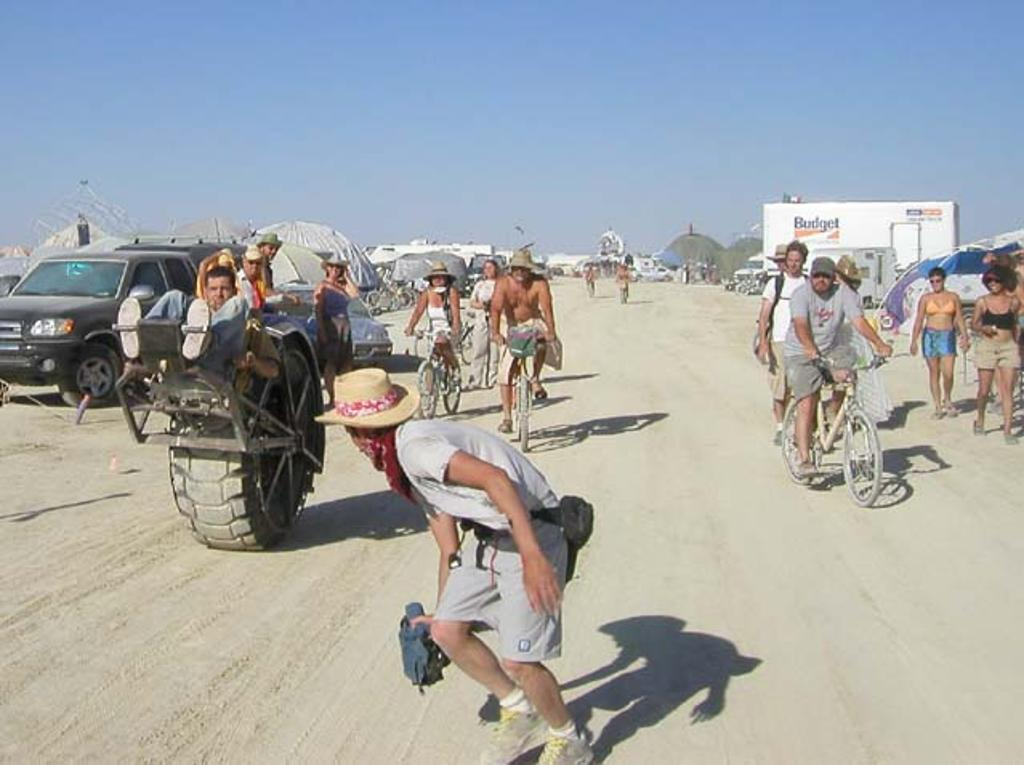face: (346, 411, 385, 465), (208, 278, 234, 308), (813, 268, 832, 292), (512, 261, 530, 281), (787, 252, 804, 272), (263, 241, 279, 260), (246, 257, 261, 276), (988, 275, 1003, 292), (432, 270, 446, 286), (930, 276, 944, 291), (329, 261, 342, 277), (486, 264, 496, 278)
